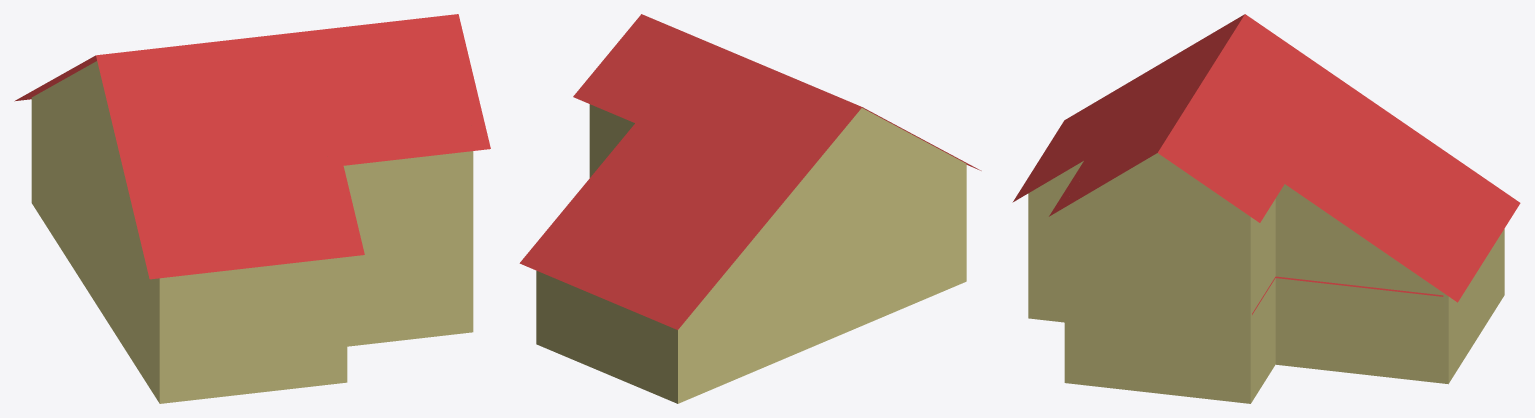
3 renders of one model, left to right at view 1: azimuth 30°, elevation 25°; view 2: azimuth 150°, elevation 25°; view 3: azimuth 270°, elevation 25°, orthographic. The views are drawn at different scales.
Bounding box in the file's own units: 23.26 × 29.25 × 15.63.
